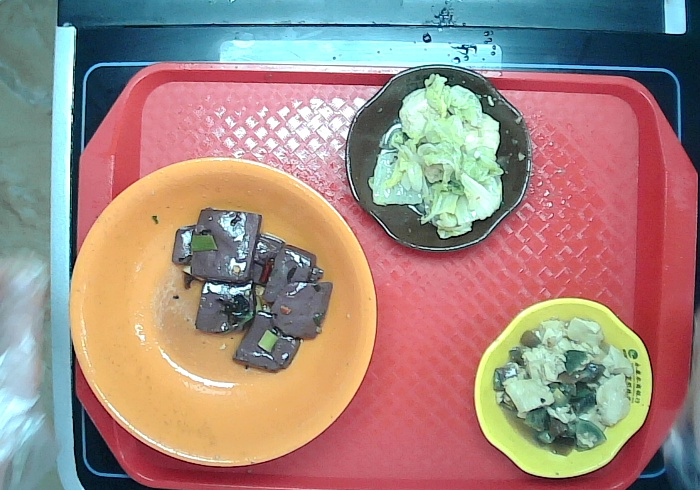YKMZ-Huang_Se_Ao_Bian_Wan: (473, 296, 654, 483)
YKMZ-Ju_Se_Tang_Wan: (66, 156, 381, 471)
YKMZ-Ka_Fei_Ao_Bian_Wan: (345, 64, 534, 257)
